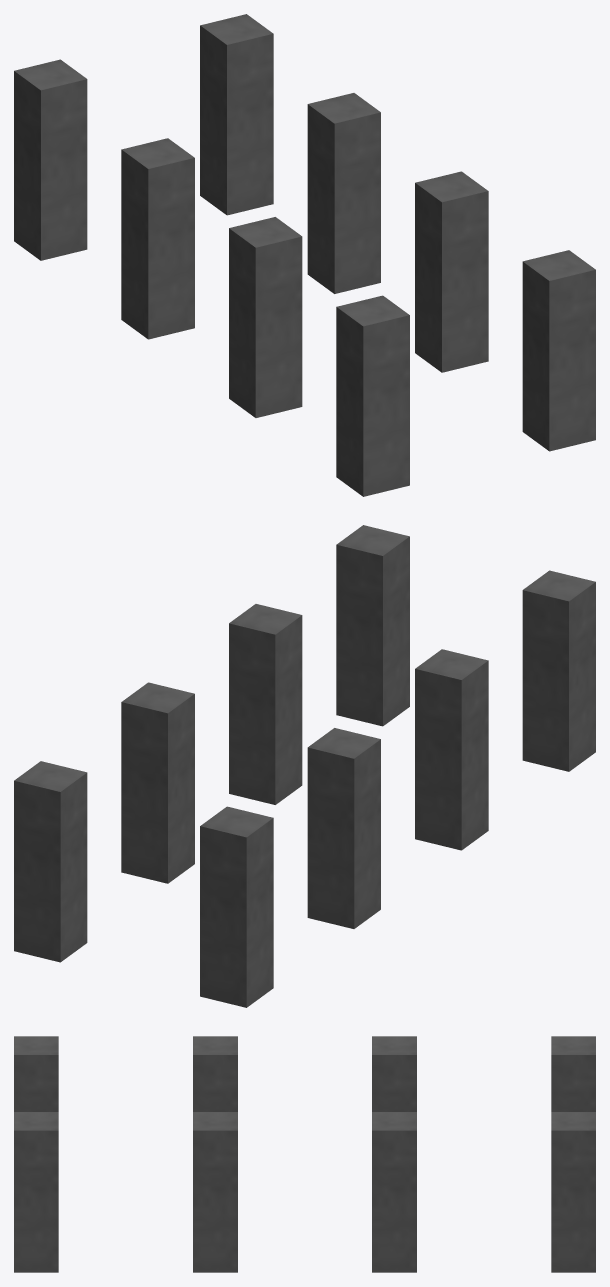
File: industrial_electrode.obj
3 renders of one model, top to bottom at view 1: azimuth 30°, elevation 25°; view 2: azimuth 150°, elevation 25°; view 3: azimuth 270°, elevation 25°, orthographic. The views are drawn at different scales.
Parts seen in each view (by area): view 1: anode8, anode5, anode4, anode1, anode7, anode2, anode6, anode3; view 2: anode8, anode5, anode4, anode1, anode6, anode3, anode7, anode2; view 3: anode8, anode7, anode6, anode5, anode4, anode3, anode2, anode1.
Part boxes in pixels (bbox=[...]): anode8: bbox=[522, 250, 595, 451]; anode5: bbox=[200, 14, 273, 215]; anode4: bbox=[336, 295, 409, 496]; anode1: bbox=[14, 59, 87, 260]; anode7: bbox=[415, 171, 488, 372]; anode2: bbox=[121, 138, 194, 339]; anode6: bbox=[307, 93, 380, 293]; anode3: bbox=[229, 217, 302, 417]; anode8: bbox=[336, 525, 409, 726]; anode5: bbox=[14, 761, 87, 962]; anode4: bbox=[522, 570, 595, 771]; anode1: bbox=[200, 806, 273, 1007]; anode6: bbox=[121, 682, 194, 883]; anode3: bbox=[415, 649, 488, 850]; anode7: bbox=[229, 604, 302, 804]; anode2: bbox=[307, 728, 380, 928]; anode8: bbox=[14, 1112, 58, 1272]; anode7: bbox=[193, 1112, 237, 1272]; anode6: bbox=[372, 1112, 416, 1272]; anode5: bbox=[551, 1112, 595, 1272]; anode4: bbox=[14, 1036, 58, 1111]; anode3: bbox=[193, 1036, 237, 1111]; anode2: bbox=[372, 1036, 416, 1111]; anode1: bbox=[551, 1036, 595, 1111].
Bounding box in the file's own units: 1.25 × 0.875 × 3.25.
